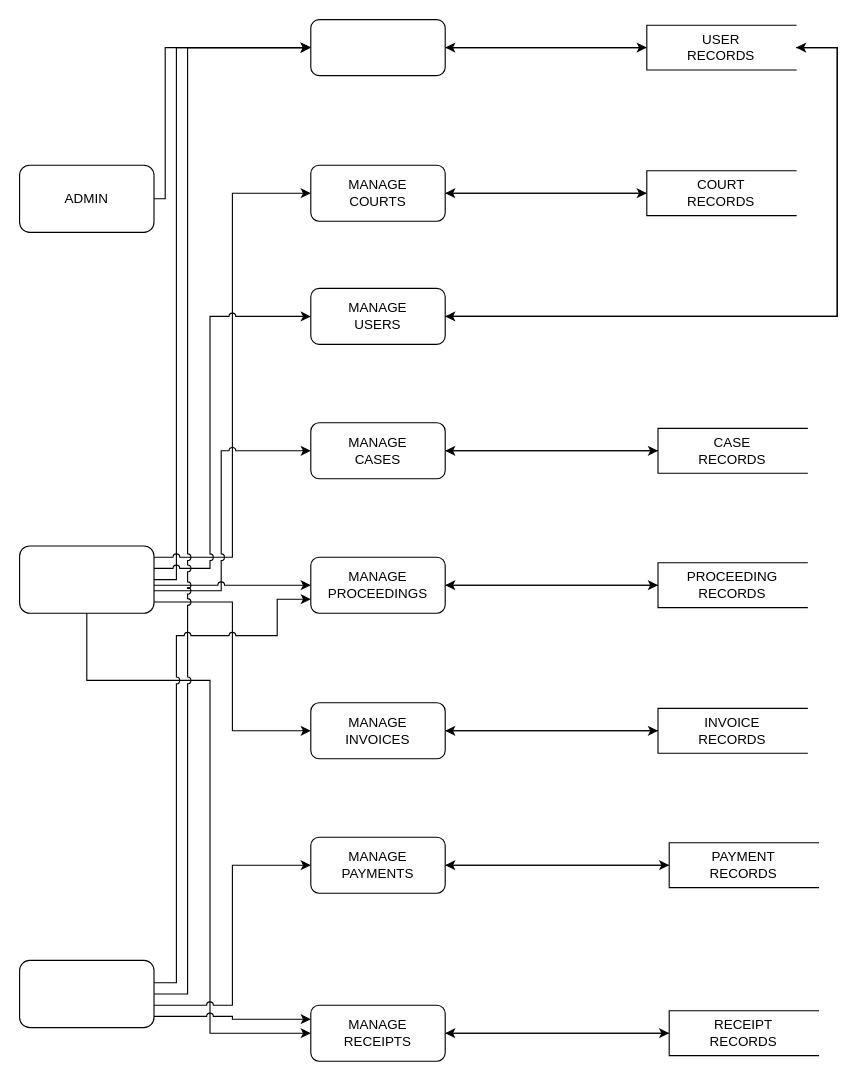
This 866x1081 diagram has some shape labels left out. The shapes that lost their labels are listed below. From the top down, each one's centre as x and y in pixels, then its label:
[377,47]: LOGIN
[86,579]: CLERK
[86,993]: USERS
